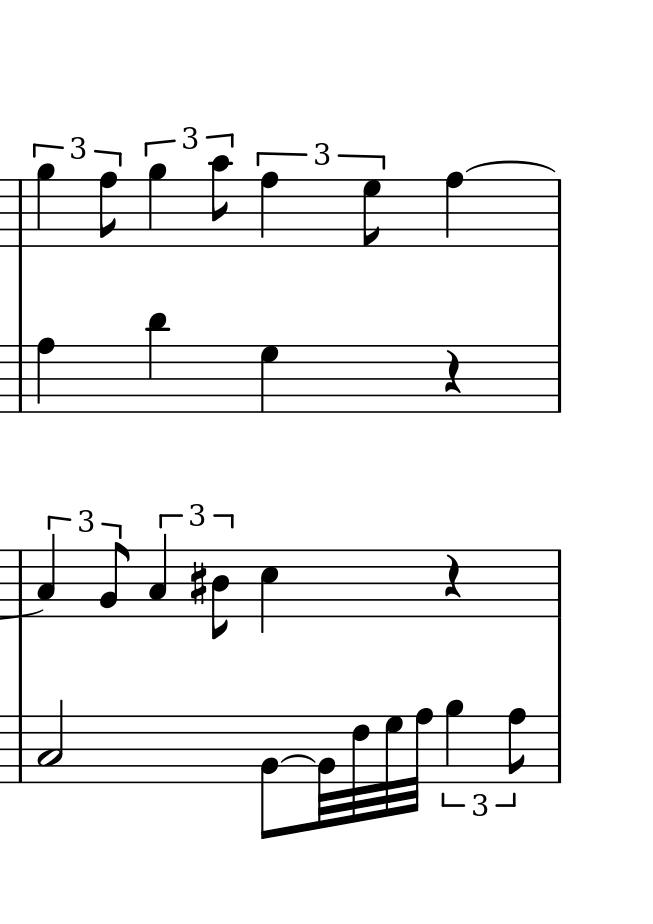2_3: (36, 700, 65, 784)
32_2: (316, 714, 337, 830)
32_6: (349, 714, 371, 824)
32_7: (385, 715, 405, 819)
32_8: (407, 708, 434, 815)
4_3: (35, 535, 57, 618), (146, 537, 169, 615)
4_5: (258, 548, 280, 637)
4_7: (258, 343, 281, 414)
4_8: (444, 170, 465, 250), (259, 170, 280, 248), (35, 336, 56, 413)
4_9: (444, 697, 464, 784), (36, 162, 56, 247), (148, 161, 167, 248)
8_10: (210, 154, 232, 248)
8_11: (146, 309, 169, 416)
8_2: (259, 713, 279, 841), (97, 541, 129, 618)
8_4: (210, 549, 231, 640)
8_7: (362, 178, 382, 249)
8_8: (97, 171, 118, 249), (507, 706, 527, 784)
Rests4: (442, 553, 464, 601), (442, 349, 464, 396)
Sharp: (188, 560, 209, 609)
Single_barline: (550, 179, 570, 245), (550, 347, 567, 412), (551, 550, 567, 616), (13, 178, 28, 248), (551, 717, 567, 782), (13, 344, 28, 413), (12, 715, 27, 783), (13, 550, 28, 615)
Slur: (467, 159, 551, 173), (281, 754, 316, 765)
